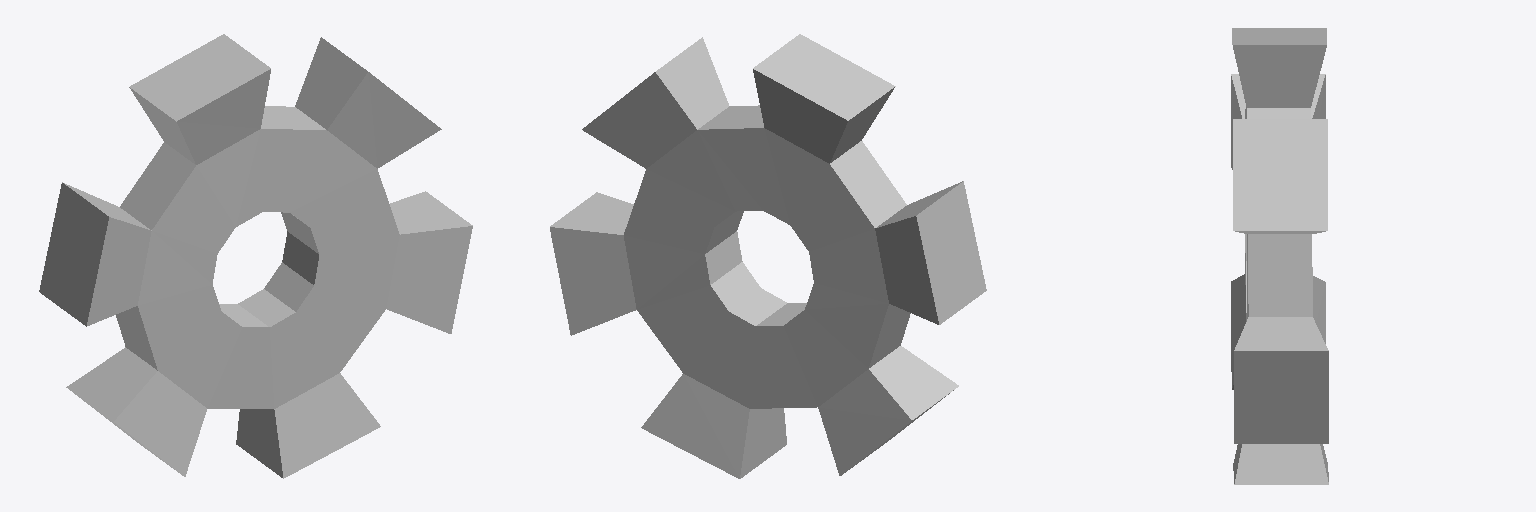
The model's file is gear.obj.
3 views of the same model, side by side, from view 1: azimuth 30°, elevation 25°; view 2: azimuth 150°, elevation 25°; view 3: azimuth 270°, elevation 25° (orthographic).
Visible parts, largest first — view 1: Cylinder; view 2: Cylinder; view 3: Cylinder.
Part boxes in pixels (bbox=[...]): Cylinder: bbox=[39, 34, 472, 478]; Cylinder: bbox=[550, 34, 986, 478]; Cylinder: bbox=[1231, 28, 1328, 484].
Size of the model in its own units: 2.23 by 2.27 by 0.4909.